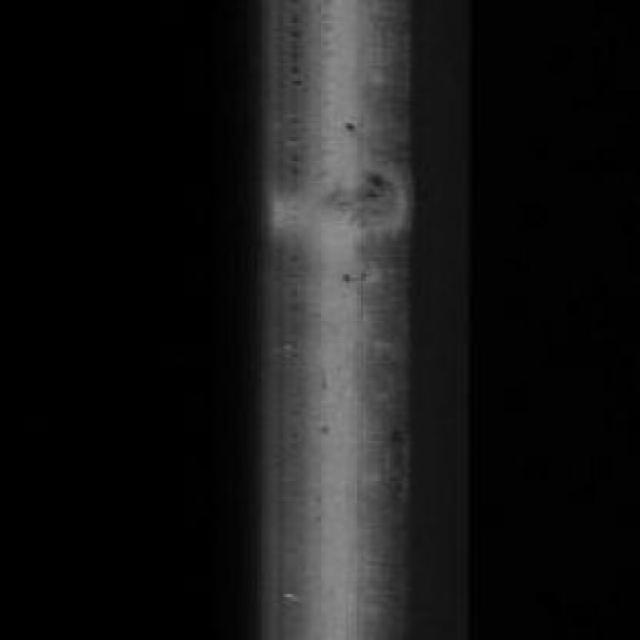non-defective: (225, 115, 504, 297)
